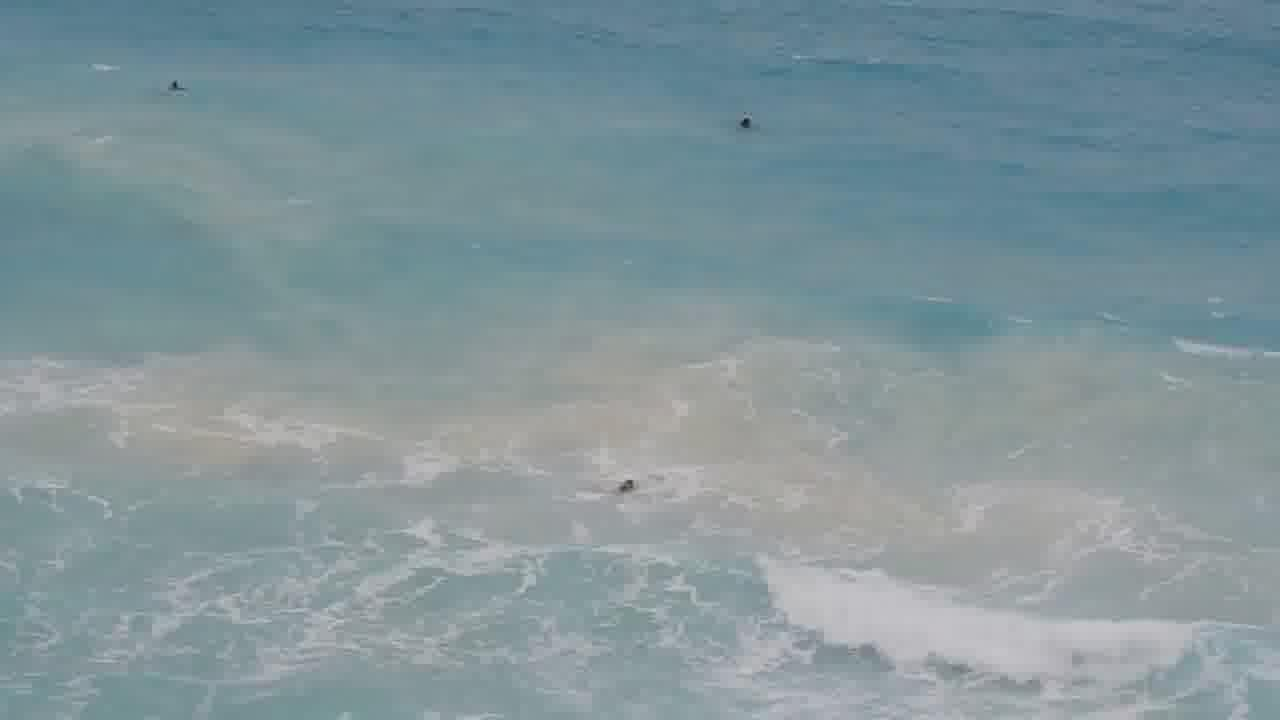human: (712, 103, 776, 141), (157, 68, 212, 112), (584, 472, 672, 499)
